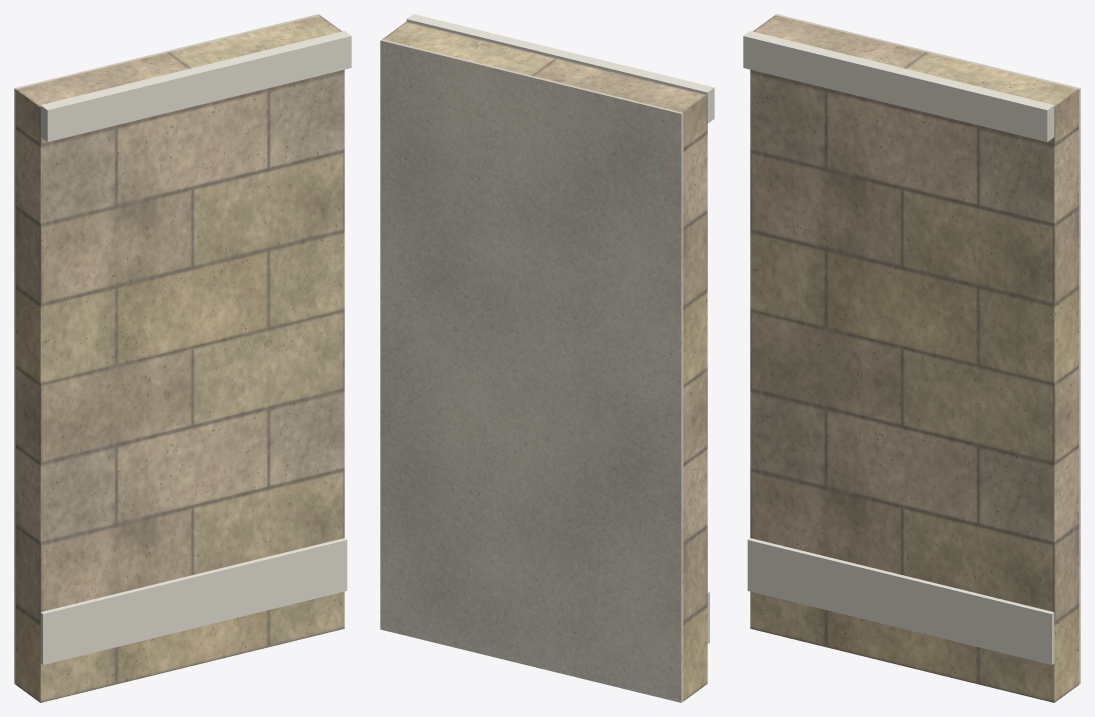
The model's file is wall_ground_plain.glb.
3 views of the same model, side by side, from view 1: azimuth 30°, elevation 25°; view 2: azimuth 150°, elevation 25°; view 3: azimuth 330°, elevation 25° (orthographic).
Parts seen in each view (by area): view 1: wall_ground_plain_rustic, wall_ground_plain_trim, wall_ground_plain_plaster; view 2: wall_ground_plain_plaster, wall_ground_plain_rustic, wall_ground_plain_trim; view 3: wall_ground_plain_rustic, wall_ground_plain_trim, wall_ground_plain_plaster.
Boxes of the visible parts, x1,y1,x2,y2 form: wall_ground_plain_rustic: (16,15,344,702); wall_ground_plain_trim: (40,31,351,664); wall_ground_plain_plaster: (14,14,319,684); wall_ground_plain_plaster: (380,39,683,702); wall_ground_plain_rustic: (382,21,707,701); wall_ground_plain_trim: (406,14,714,643); wall_ground_plain_rustic: (750,15,1078,702); wall_ground_plain_trim: (743,31,1054,664); wall_ground_plain_plaster: (775,14,1080,684).
Size of the model in its own units: 2 by 3.76 by 0.38.
3 materials, 2 textured.
